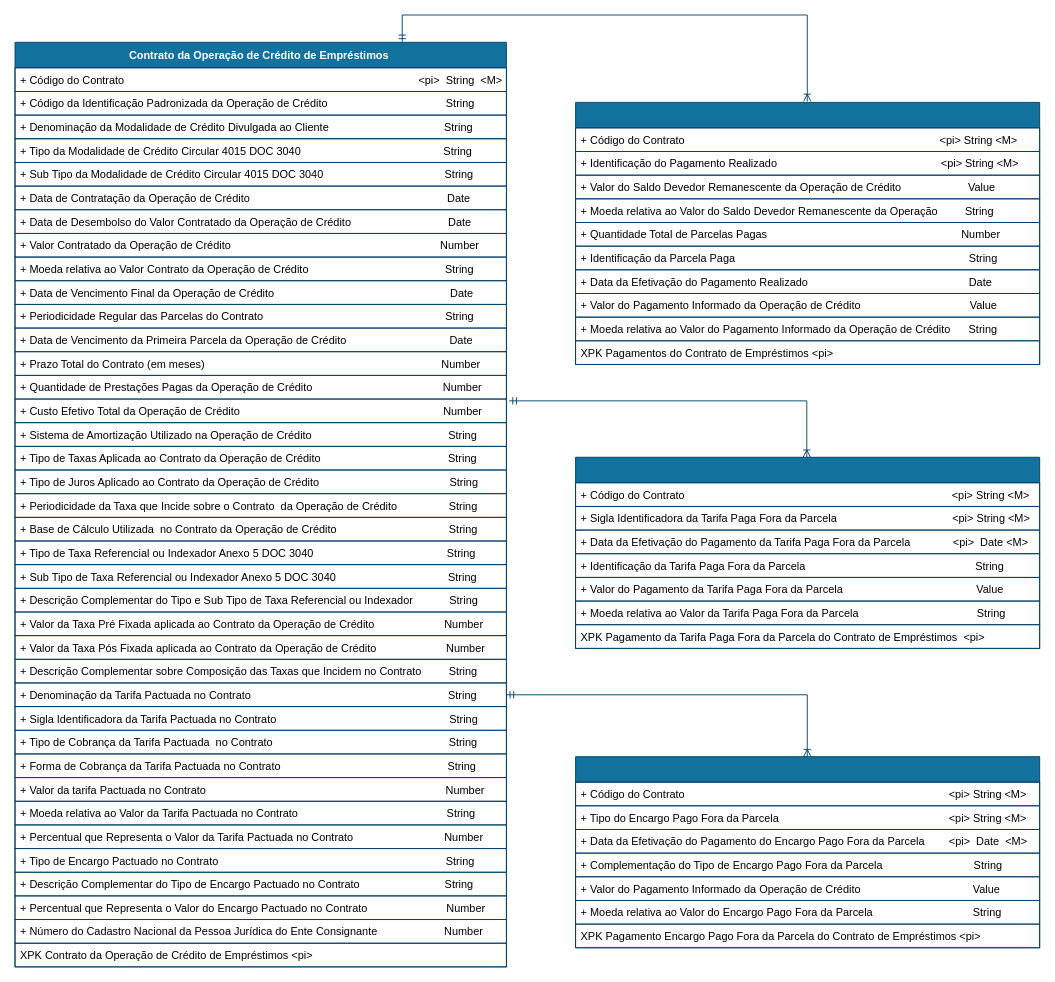
The diagram is 1055 pixels wide and 982 high, and some of its shapes have lost their labels. Here are the shapes that lost their labels. From the top down, the box of each, then its label:
(575, 101, 1040, 364): Pagamentos do Contrato da Operação de Crédito de Empréstimos
(575, 456, 1040, 648): Tarifas Pagas Fora da Parcela do Contrato da Operação de Empréstimos
(575, 756, 1040, 948): Encargos Pagos Fora da Parcela do Contrato da Operação de Empréstimos
